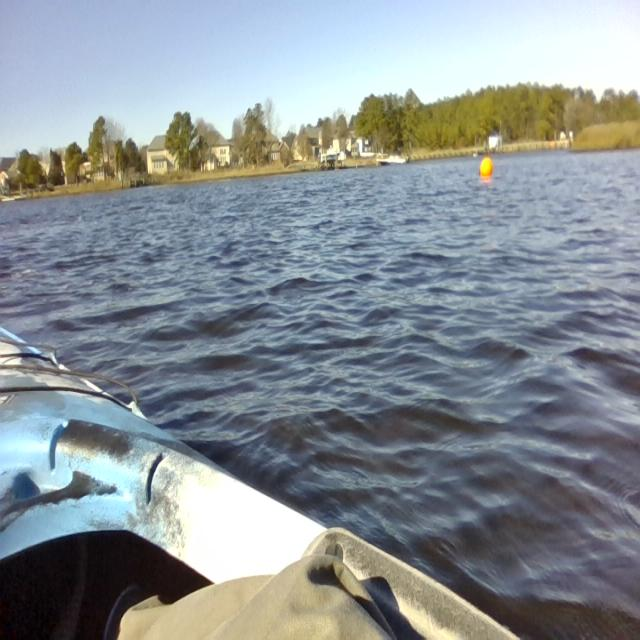Buoy: (477, 153, 496, 190)
